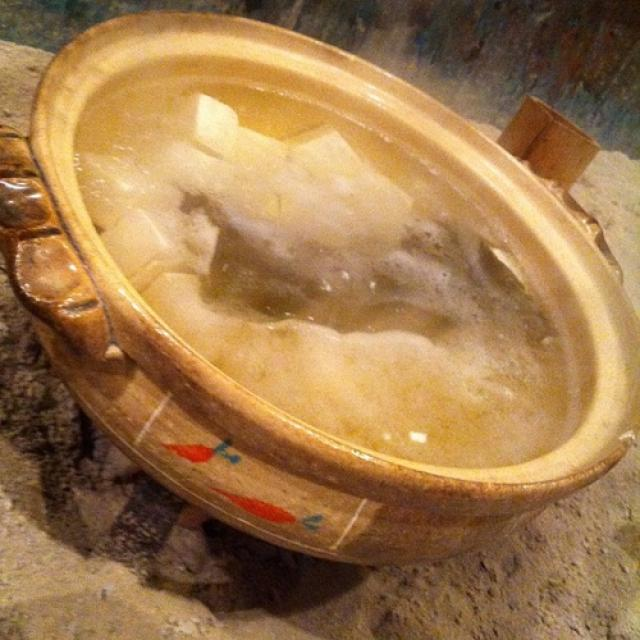豆腐料理: (51, 18, 624, 581)
